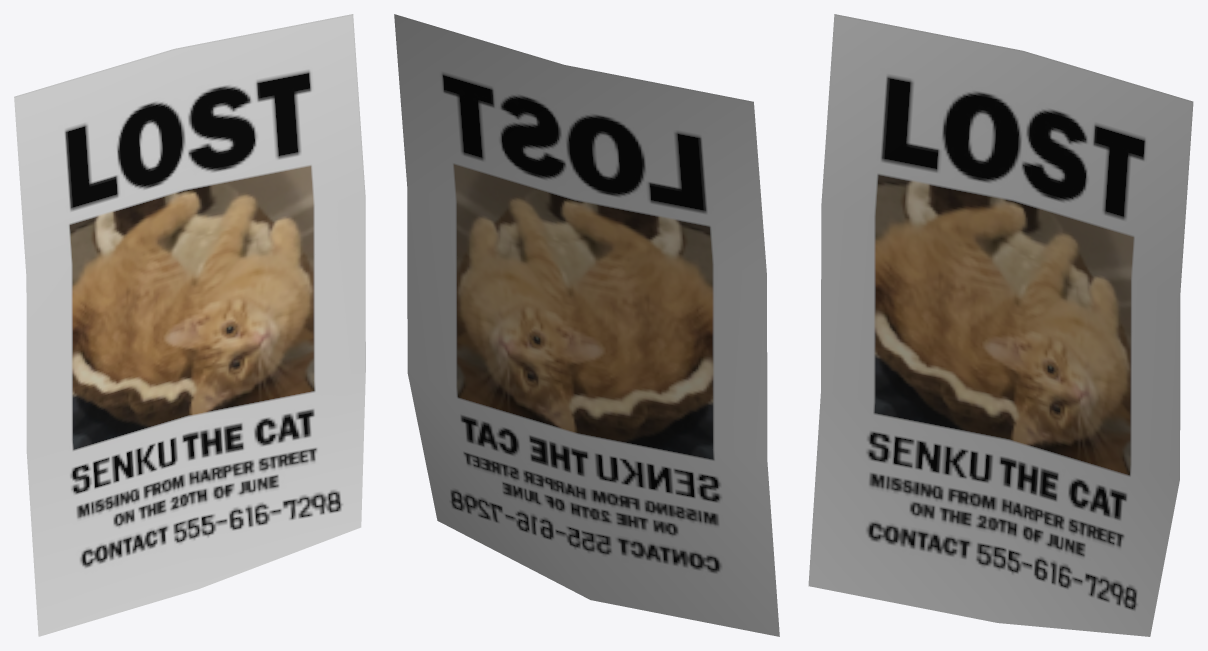
The model's file is senku's_poster.fbx.
3 views of the same model, side by side, from view 1: azimuth 30°, elevation 25°; view 2: azimuth 150°, elevation 25°; view 3: azimuth 330°, elevation 25° (orthographic). The views are drawn at different scales.
Visible parts, largest first — view 1: senku's_poster; view 2: senku's_poster; view 3: senku's_poster.
Part boxes in pixels (left/top/right/bottom): senku's_poster: left=14, top=14, right=365, bottom=636; senku's_poster: left=394, top=14, right=779, bottom=636; senku's_poster: left=808, top=14, right=1193, bottom=636.
Size of the model in its own units: 25.43 by 37.44 by 4.35.
1 material, 1 textured.
